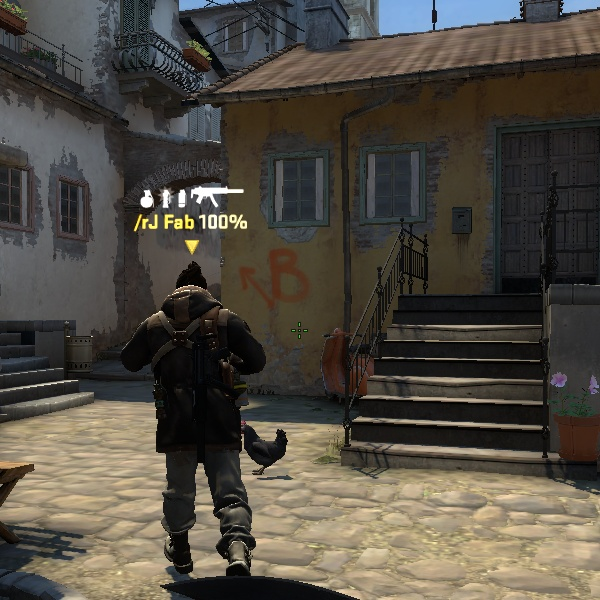t_body: (94, 257, 279, 576)
t_head: (163, 257, 218, 308)
